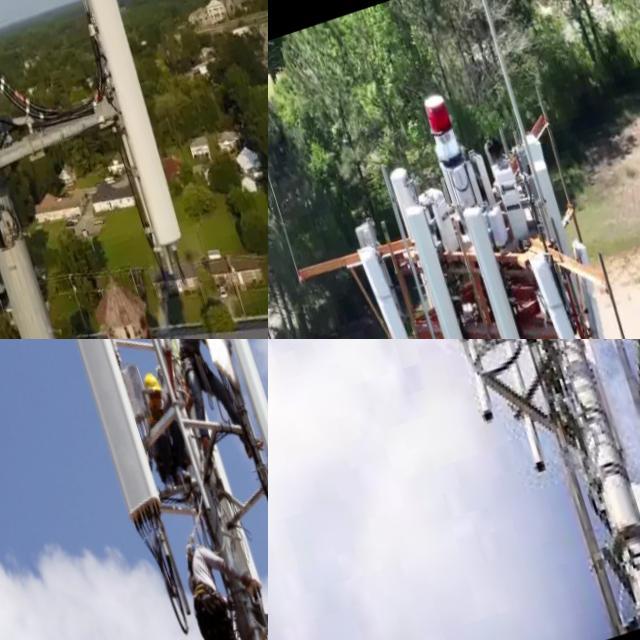GSM Antenna: (36, 0, 210, 264), (28, 339, 174, 528), (159, 339, 268, 496), (453, 197, 538, 339), (398, 197, 482, 339), (354, 237, 421, 339), (524, 251, 589, 339), (560, 242, 618, 339)
